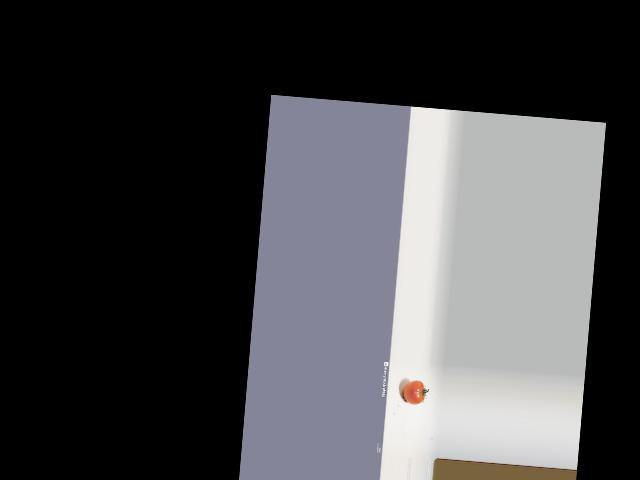tomato: (401, 379, 425, 405)
